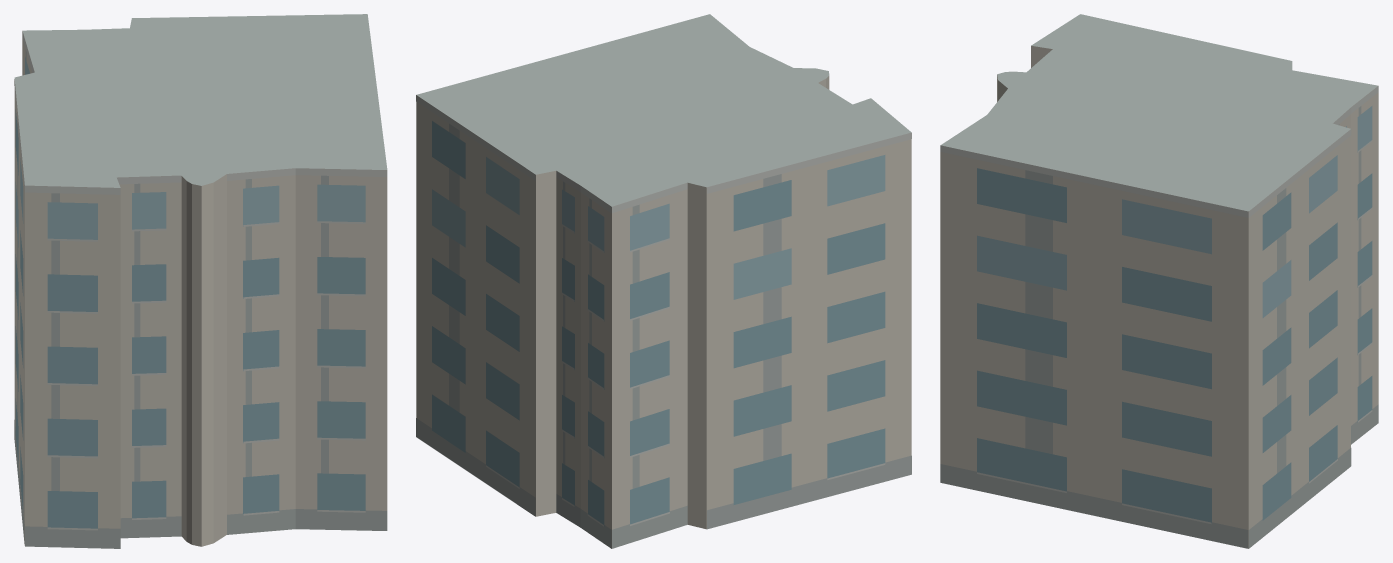
The model's file is survey-upis-32910349.glb.
The picture shows the model from 3 angles, left to right: view 1: azimuth 30°, elevation 25°; view 2: azimuth 150°, elevation 25°; view 3: azimuth 270°, elevation 25°; orthographic projection. The views are drawn at different scales.
Parts seen in each view (by area): view 1: survey-upis-32910349.tmp; view 2: survey-upis-32910349.tmp; view 3: survey-upis-32910349.tmp.
Part boxes in pixels (<box>): survey-upis-32910349.tmp: <box>14,14,387,548</box>; survey-upis-32910349.tmp: <box>416,14,911,548</box>; survey-upis-32910349.tmp: <box>940,14,1378,548</box>.
Size of the model in its own units: 15.82 by 12.6 by 14.84.
